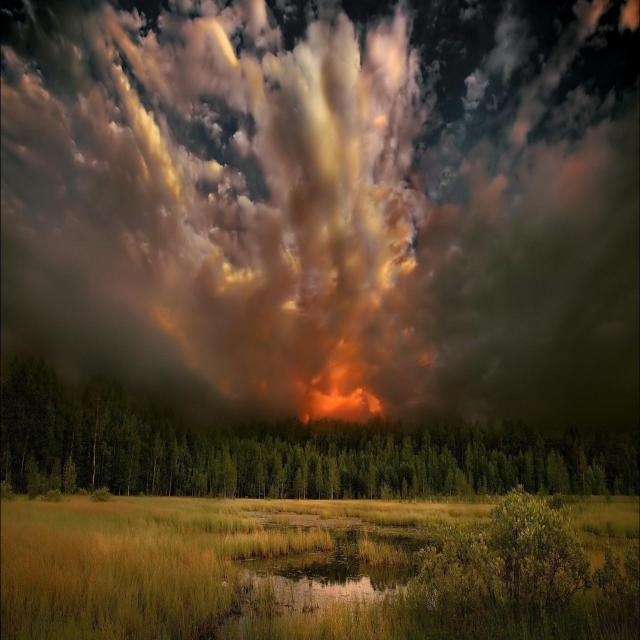Fire: (284, 340, 398, 434), (413, 344, 444, 376)
Smoke: (1, 238, 640, 444)
